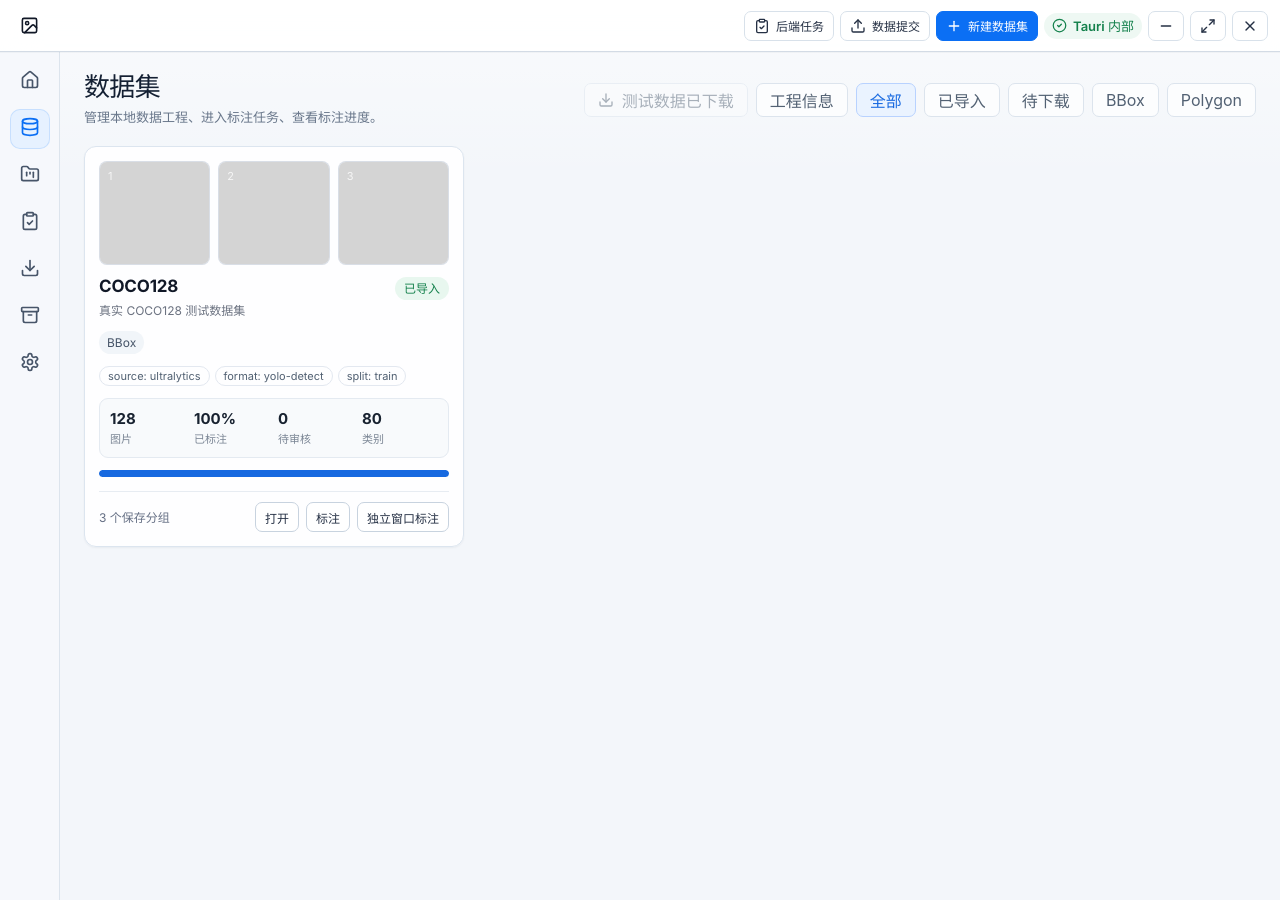
it: desktop shell › 数据提交弹窗选择来源后展示导入确认细节
Click the button "数据提交". click: (885, 26)
box: [840,10,930,40]
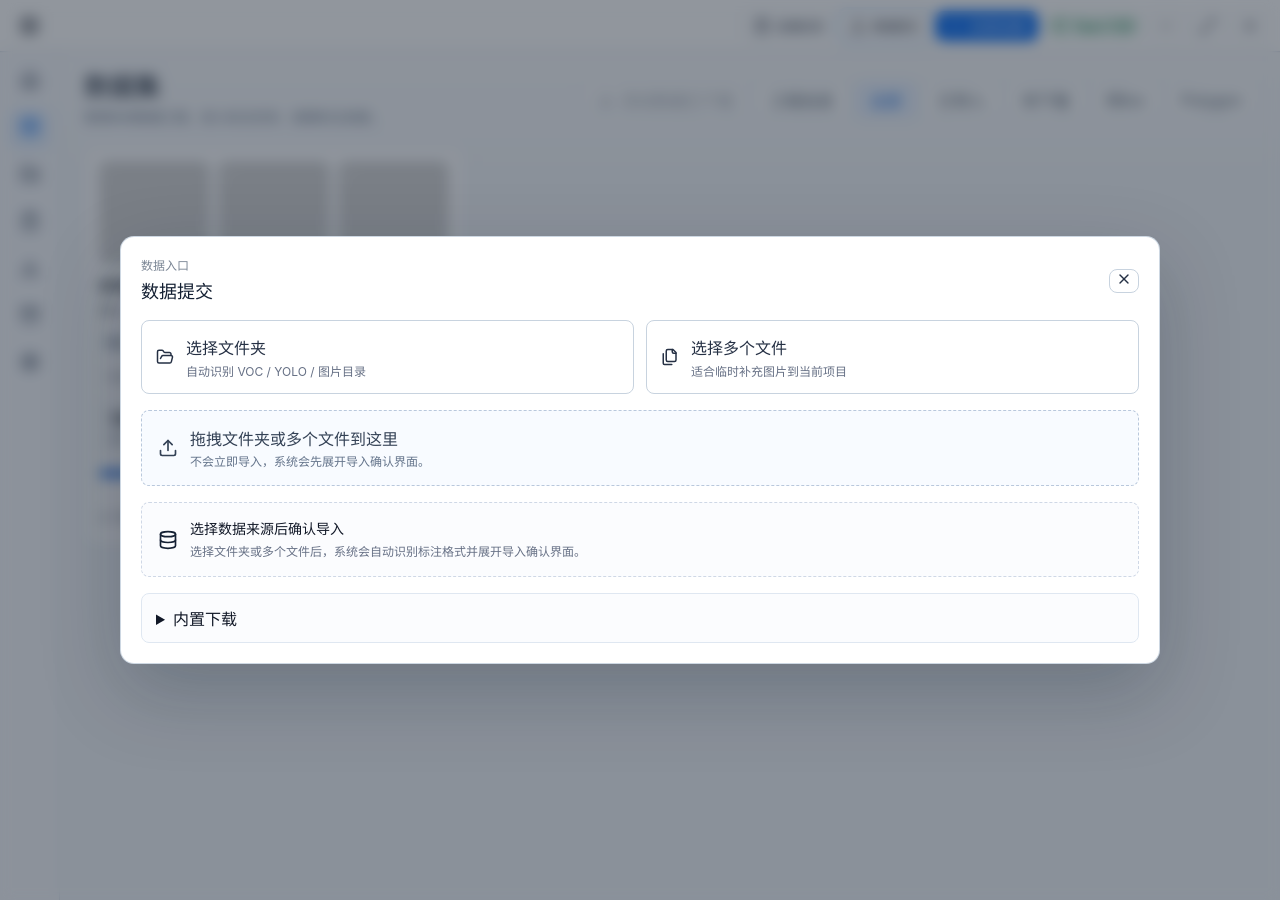
Click the button "选择文件夹 自动识别 VOC / YOLO / 图片目录". click: (226, 348)
box: [141,320,634,394]
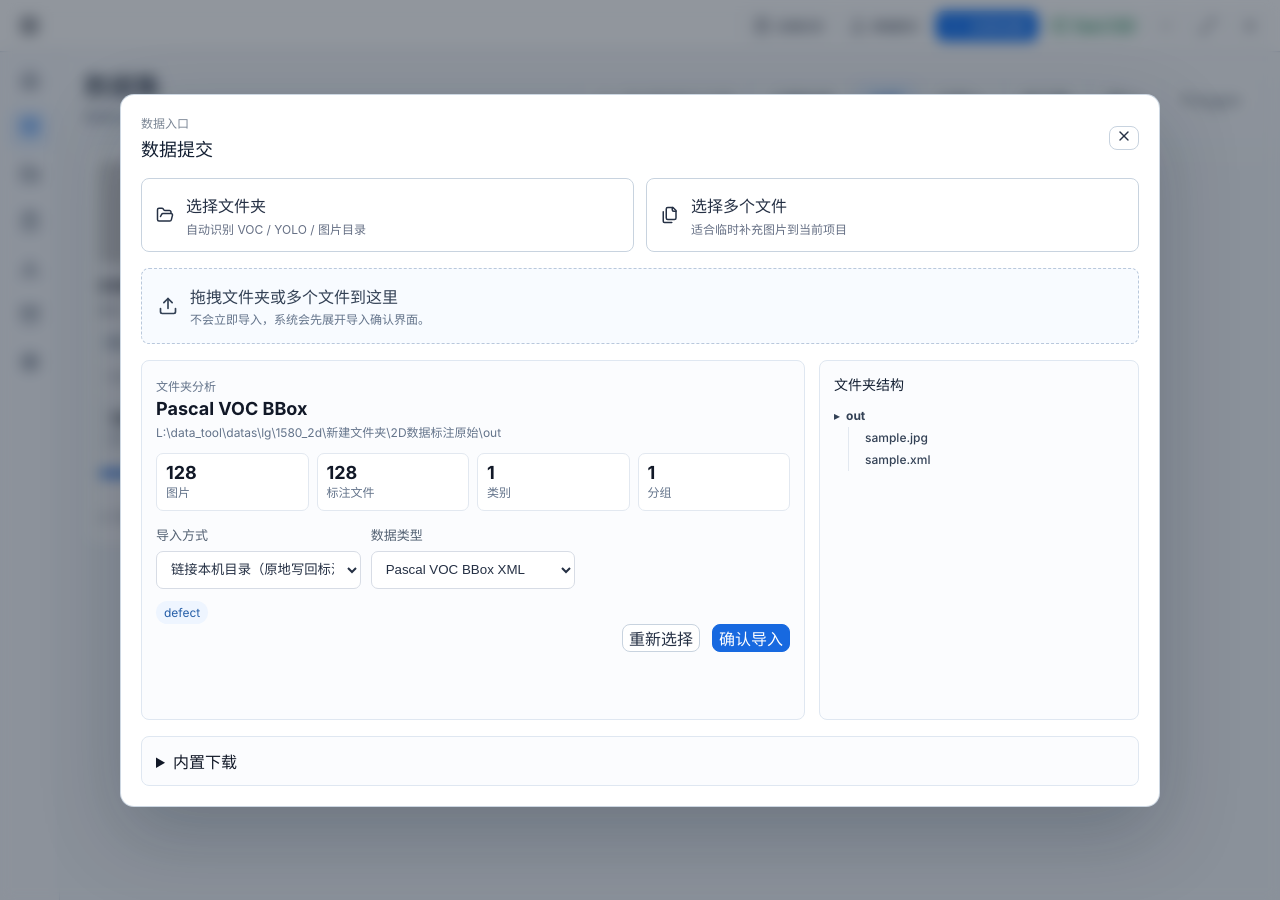
Expected: the text "128" next to "100" is shown, [110,409,136,428]
Now the element labelled "文件夹结构" shows "sample.jpg", box [865,430,928,445]
